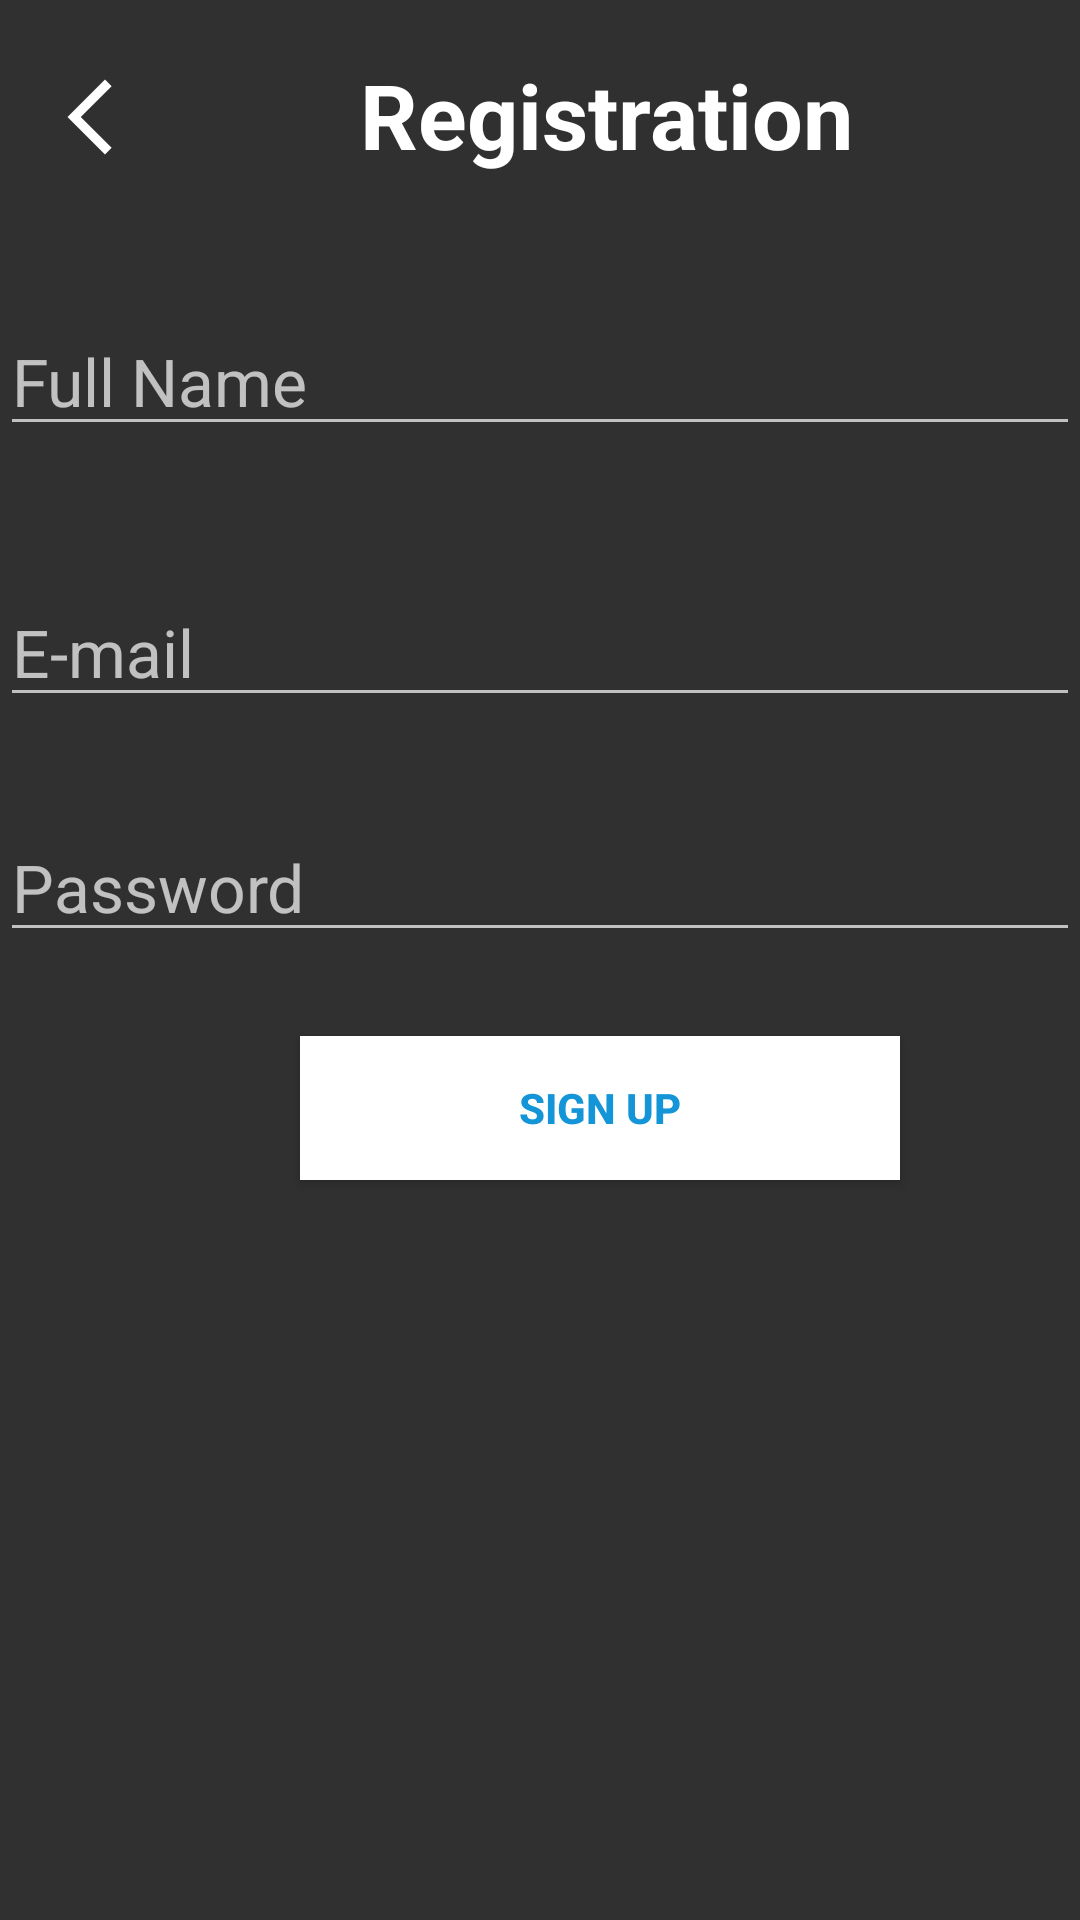

Screen size 1080px x 1920px. Icon name, then its box in pixels as (x1, y1, x2, y2):
arrow back: (67, 79, 112, 155)
